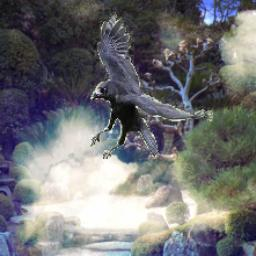Crow: (90, 11, 213, 159)
